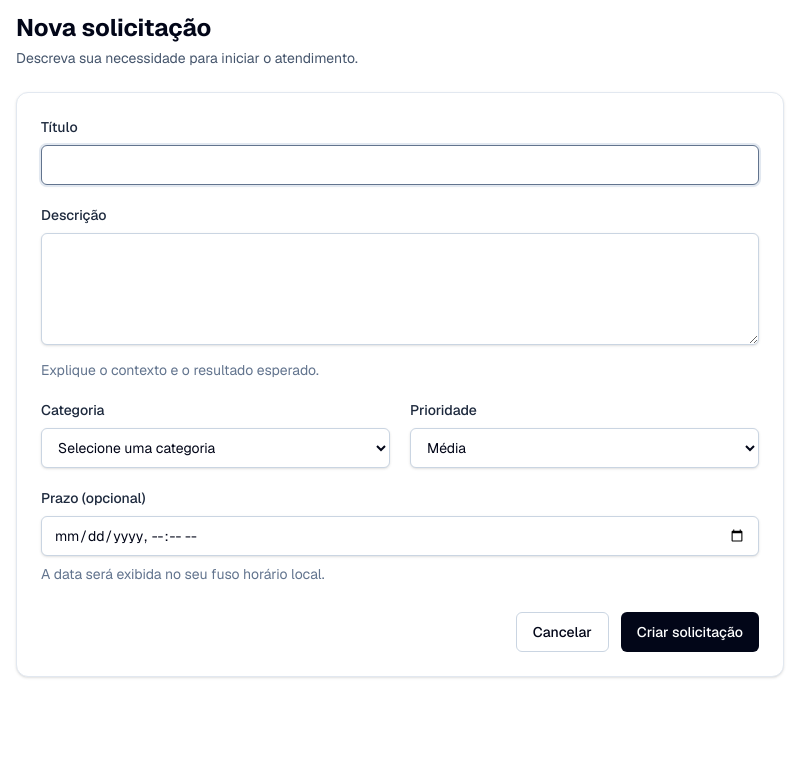
Test: nova solicitação › mapeia categoria inativa para o campo
Type "Acesso ao financeiro" into the field labelled "Título". click: (400, 165)
box: [41,145,759,185]
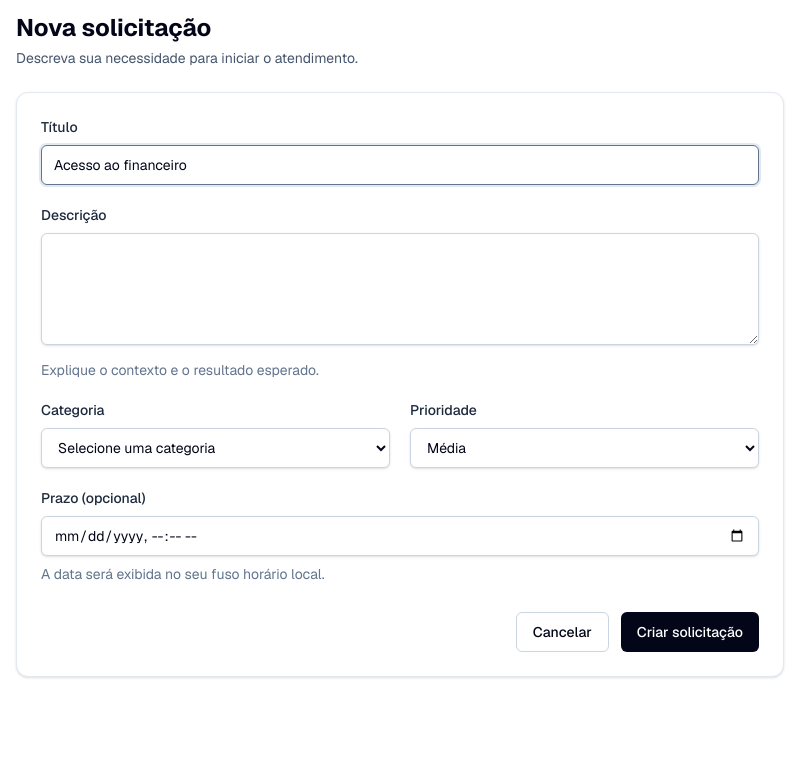
Type "Liberar perfil" into the text box labelled "Descrição". click: (400, 289)
box: [41,233,759,345]
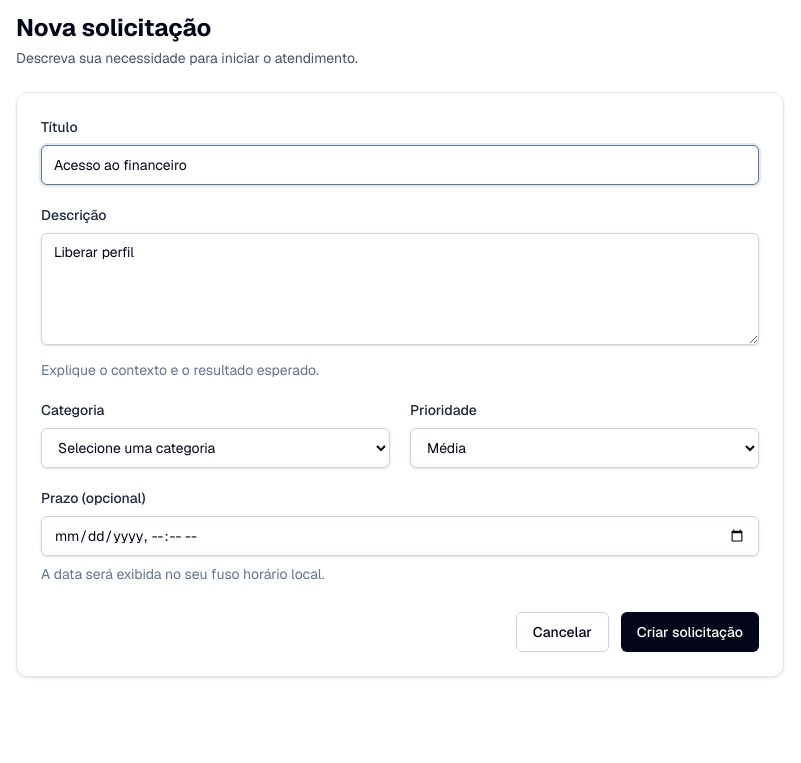
Select "Acessos" in the dropdown labelled "Categoria". click: (216, 448)
box: [41,428,390,468]
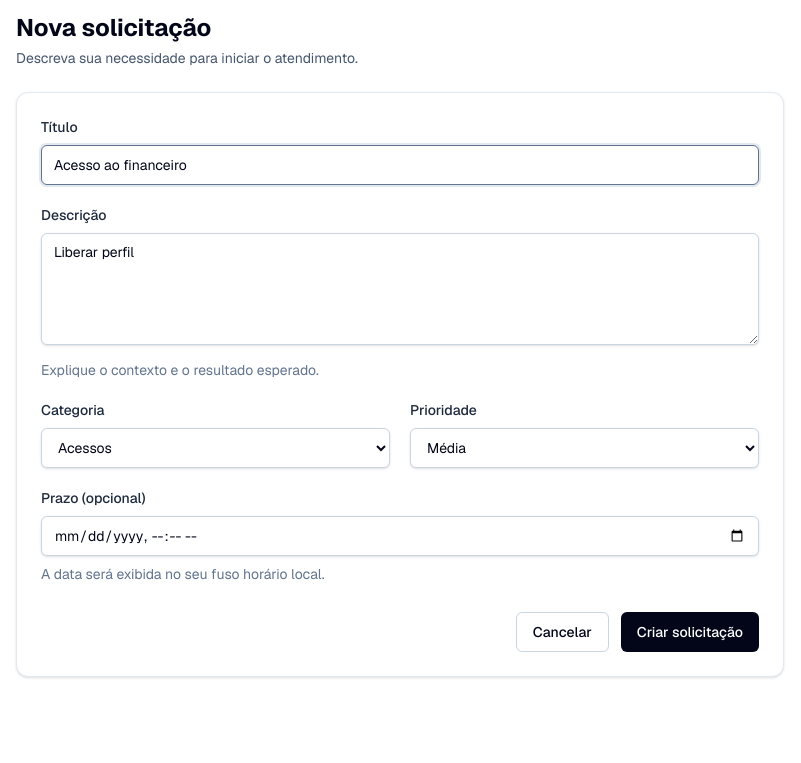
Click the button "Criar solicitação". click: (690, 632)
box: [621,612,759,652]
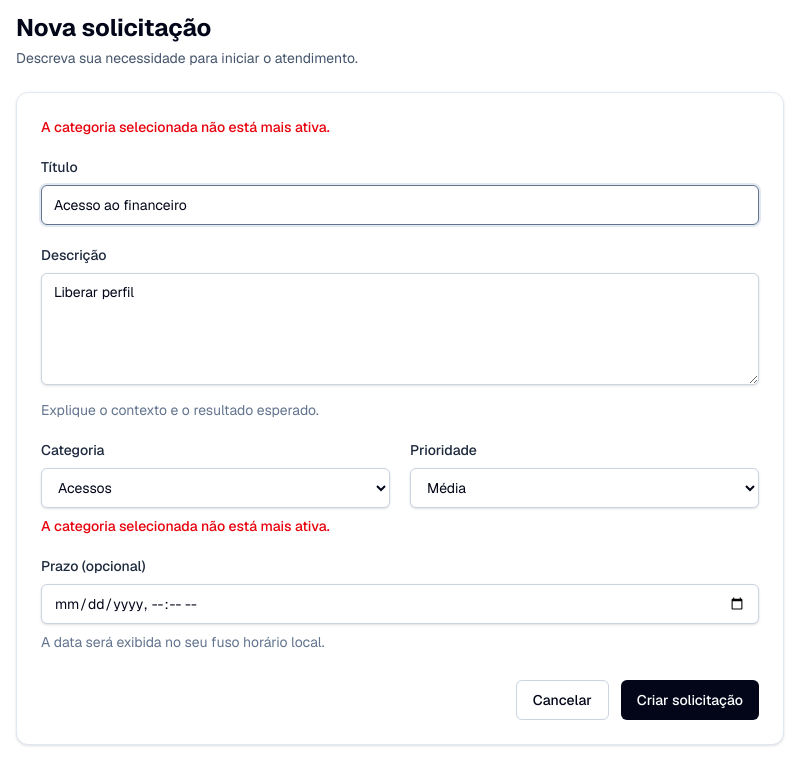
Check: the 1st text "A categoria selecionada não está mais ativa." is shown, box [41,118,330,136]
